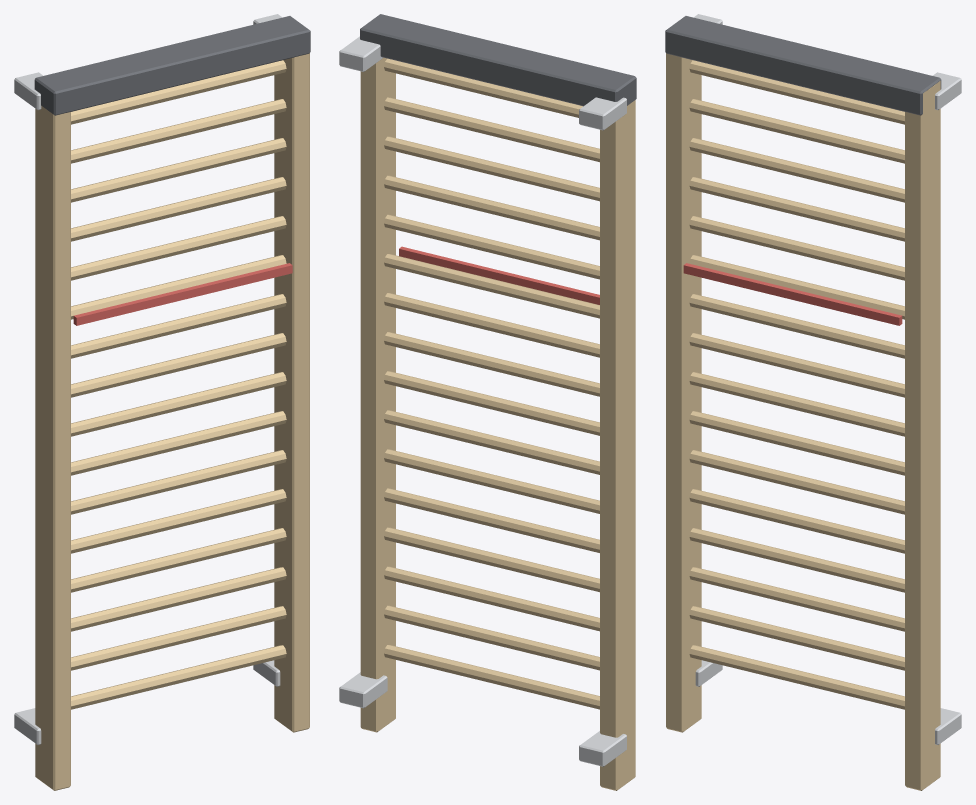
File: community-sports-hall-and-changing-rooms-wall-bar-unit-b6535673__35087.glb
3 views of the same model, side by side, from view 1: azimuth 30°, elevation 25°; view 2: azimuth 150°, elevation 25°; view 3: azimuth 330°, elevation 25° (orthographic).
Parts seen in each view (by area): view 1: wall-bar-unit; view 2: wall-bar-unit; view 3: wall-bar-unit.
Part boxes in pixels (x1,y1,x2,y2): wall-bar-unit: (14, 14, 310, 790); wall-bar-unit: (339, 14, 636, 790); wall-bar-unit: (665, 14, 961, 790).
Size of the model in its own units: 1.03 by 2.6 by 0.2601.
